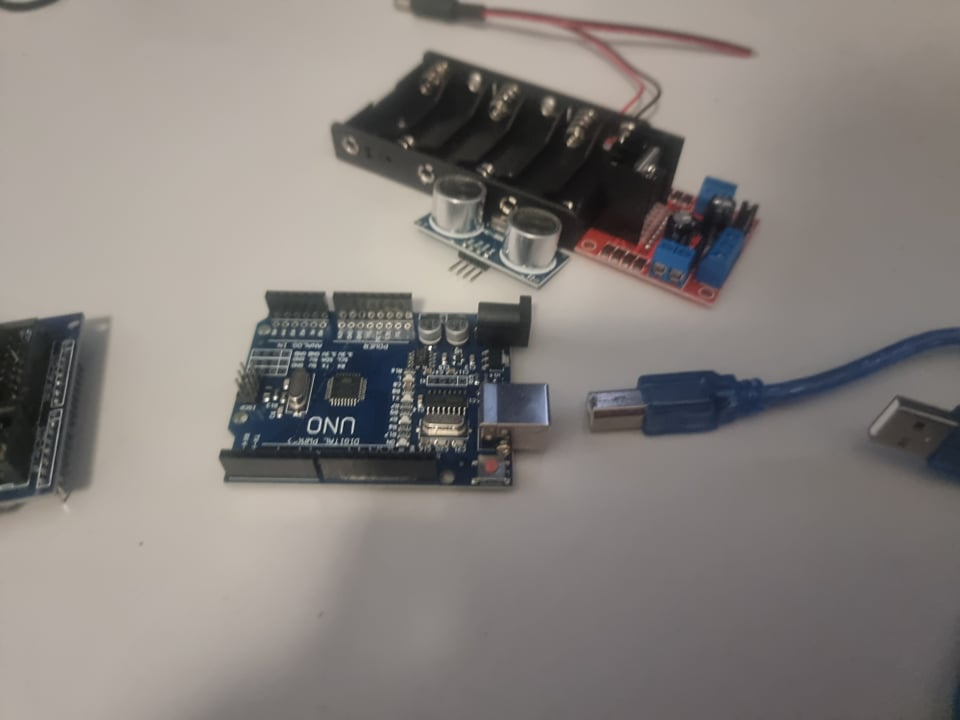BATTERY BOX: (331, 48, 610, 196)
MOTOR: (576, 123, 760, 309)
SENSOR: (422, 177, 565, 286)
UNO R3: (216, 280, 553, 498)
